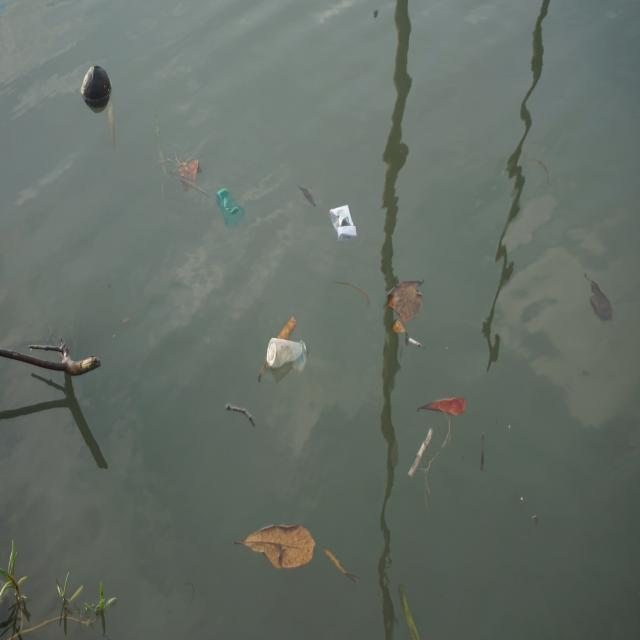Bungkus Minuman: (266, 329, 309, 380), (215, 184, 247, 234)
